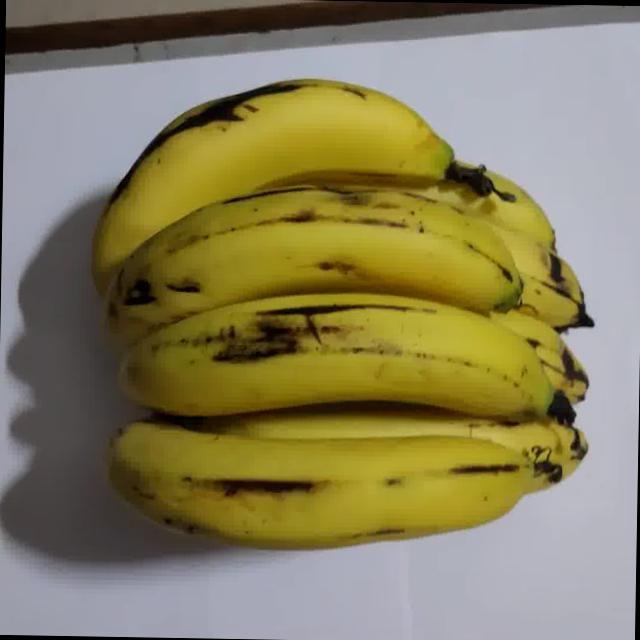banana_pacche: (66, 54, 628, 600)
